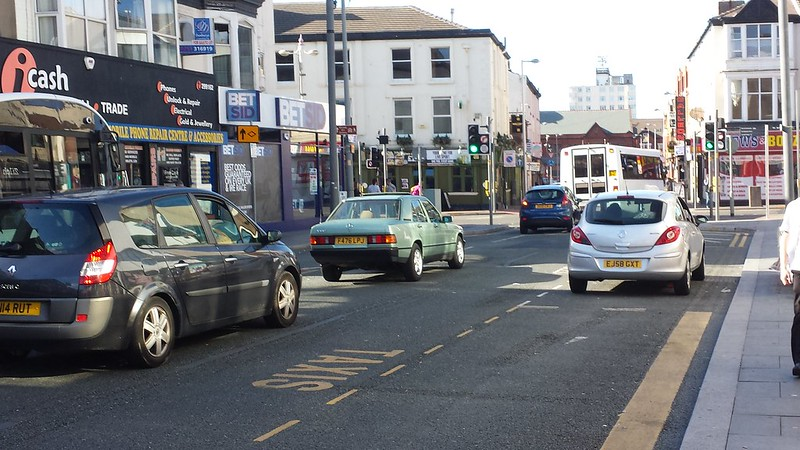number_plate: (1, 297, 54, 323), (332, 234, 375, 250), (601, 256, 645, 269), (534, 202, 560, 213)
